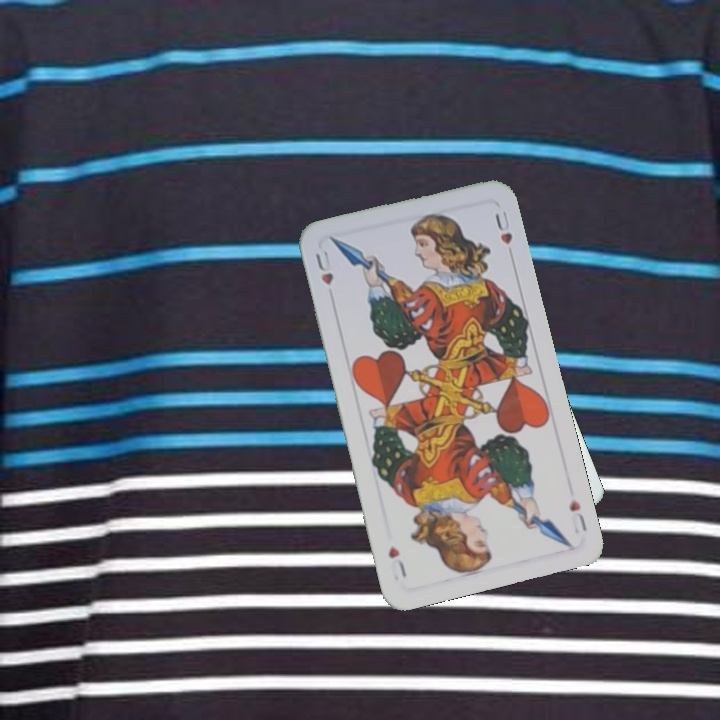HU: (311, 246, 336, 288), (565, 495, 590, 537)
